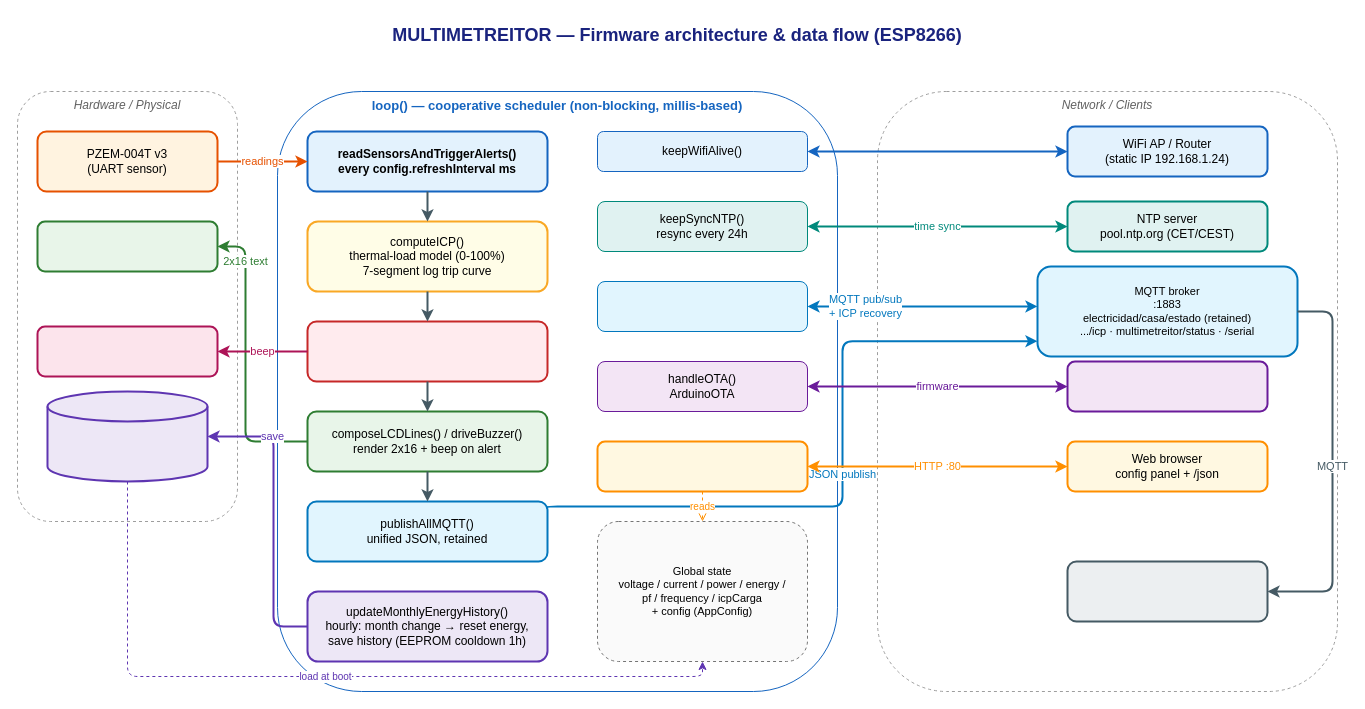
This 1365x709 diagram has some shape labels left out. The centre of each missing label's shape, as x and y in pixels:
16x2 LCD (I2C 0x27): the point at 127,246
Buzzer (D7): the point at 127,351
EEPROM (AppConfig + 24-month history): the point at 127,436
evaluateAlerts() ICP > overvolt > undervolt > consumption: the point at 427,351
keepMQTTAlive() reconnect + mqttClient.loop(): the point at 702,306
OTA uploader (arduino / espota): the point at 1167,386
Rainmeter skin (subscribes to state topic): the point at 1167,591
server.handleClient() ESP8266WebServer :80: the point at 702,466
